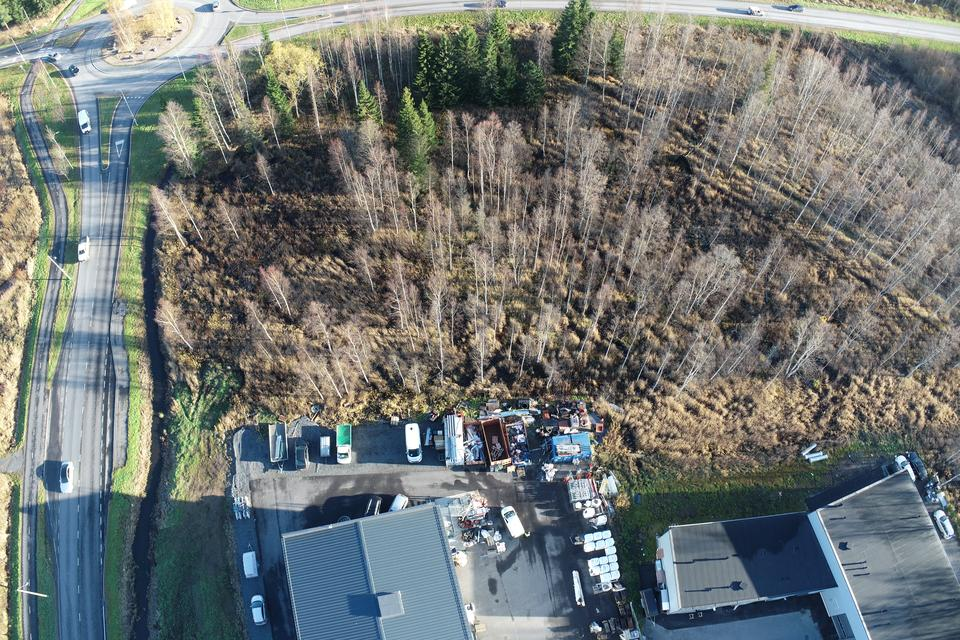intersection: (26, 26, 64, 74)
roundabout: (66, 0, 256, 121)
